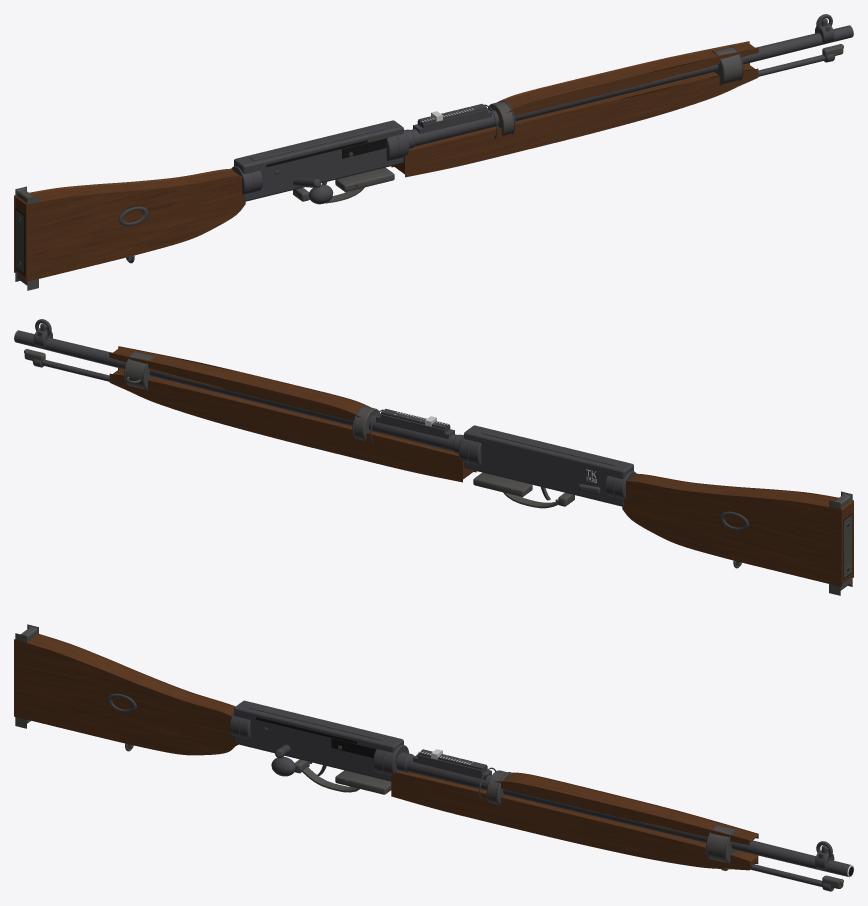
The model's file is mosin-nagant-m91-30.glb.
3 views of the same model, one above another, from view 1: azimuth 30°, elevation 25°; view 2: azimuth 150°, elevation 25°; view 3: azimuth 330°, elevation 25° (orthographic).
Parts seen in each view (by area): view 1: SM_Stock_Butt, SM_Stock_Forend, SM_Receiver_Slab, SM_Handguard, SM_Barrel, SM_Receiver_Raceway, SM_TriggerGuard_Front, SM_Band_Front, SM_Receiver_FrontRing; view 2: SM_Stock_Butt, SM_Stock_Forend, SM_Receiver_Slab, SM_Handguard, SM_Barrel, SM_Receiver_Raceway, SM_TriggerGuard_Front, SM_Band_Front, SM_Receiver_FrontRing; view 3: SM_Stock_Butt, SM_Stock_Forend, SM_Receiver_Slab, SM_Handguard, SM_Barrel, SM_Receiver_Raceway, SM_TriggerGuard_Front, SM_Band_Front, SM_Receiver_FrontRing.
Boxes of the visible parts, x1,y1,x2,y2 form: SM_Stock_Butt: (14,168,245,281); SM_Stock_Forend: (391,63,758,177); SM_Receiver_Slab: (234,120,403,201); SM_Handguard: (497,41,758,115); SM_Barrel: (410,25,853,146); SM_Receiver_Raceway: (249,124,386,160); SM_TriggerGuard_Front: (335,167,394,191); SM_Band_Front: (713,47,742,84); SM_Receiver_FrontRing: (386,129,409,161); SM_Stock_Butt: (622,473,853,586); SM_Stock_Forend: (109,368,476,482); SM_Receiver_Slab: (464,425,633,506); SM_Handguard: (109,346,370,420); SM_Barrel: (14,330,457,451); SM_Receiver_Raceway: (481,429,618,465); SM_TriggerGuard_Front: (473,472,532,496); SM_Band_Front: (125,352,154,389); SM_Receiver_FrontRing: (458,434,481,466); SM_Stock_Butt: (14,634,238,755); SM_Stock_Forend: (391,770,758,870); SM_Receiver_Slab: (234,700,403,781); SM_Handguard: (494,772,758,845); SM_Barrel: (406,755,850,876); SM_Receiver_Raceway: (249,704,386,740); SM_TriggerGuard_Front: (335,770,391,794); SM_Band_Front: (707,825,737,863); SM_Receiver_FrontRing: (373,744,408,775).
Size of the model in its own units: 1.24 by 0.1355 by 0.094.
Materials: 5 (1 with a texture image).
